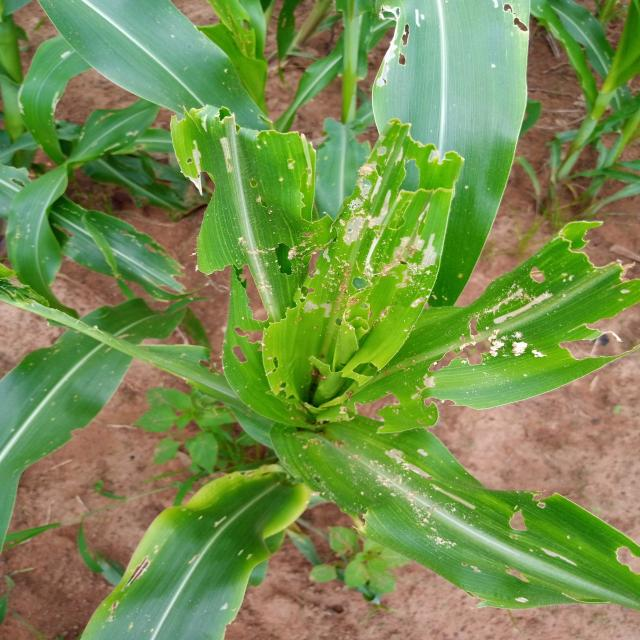fall-armyworm-frass: (499, 331, 548, 380), (314, 274, 364, 317), (370, 487, 438, 517)
fall-armyworm-larval-damage: (378, 116, 475, 172), (482, 486, 573, 544), (557, 220, 630, 290), (225, 259, 292, 329), (386, 8, 444, 80), (331, 341, 401, 387), (467, 556, 538, 594), (231, 322, 272, 385), (164, 104, 257, 131), (561, 333, 620, 373), (352, 395, 406, 437), (398, 24, 446, 71), (605, 524, 640, 583), (500, 0, 540, 43), (268, 238, 294, 286), (558, 315, 560, 320)
